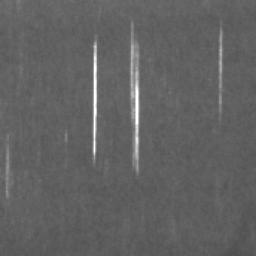Bright scratch: (131, 22, 139, 172), (93, 41, 97, 155), (219, 29, 222, 113)
